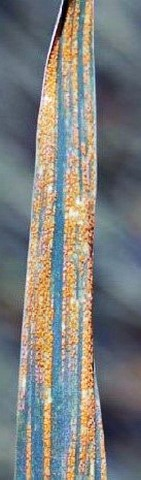Leaf Rust: (18, 30, 118, 456)
